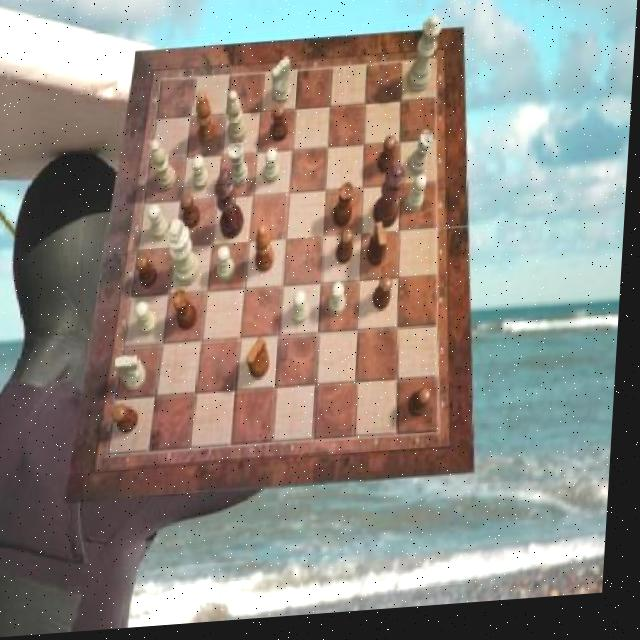bishop: (195, 95, 221, 152), (257, 228, 280, 278)
black-bishop: (214, 171, 250, 246)
black-king: (251, 341, 276, 384), (368, 227, 391, 272)
black-knight: (137, 255, 162, 290), (116, 406, 144, 437), (182, 197, 204, 233), (272, 109, 291, 147), (380, 141, 398, 180), (376, 282, 396, 317), (413, 395, 437, 424), (339, 234, 358, 269)
black-pawn: (374, 170, 408, 236)
black-queen: (175, 292, 203, 335), (335, 188, 356, 235)
black-rook: (149, 141, 179, 196), (227, 93, 250, 148)
white-bishop: (167, 221, 206, 291)
white-king: (118, 356, 152, 394), (271, 61, 293, 110)
white-knight: (149, 206, 173, 244), (138, 302, 162, 338), (408, 180, 430, 218), (219, 250, 240, 287), (294, 293, 313, 329), (193, 158, 212, 193), (332, 287, 350, 322), (265, 154, 283, 189)
white-pawn: (406, 20, 443, 100)
white-queen: (411, 135, 437, 182), (228, 145, 253, 191)
